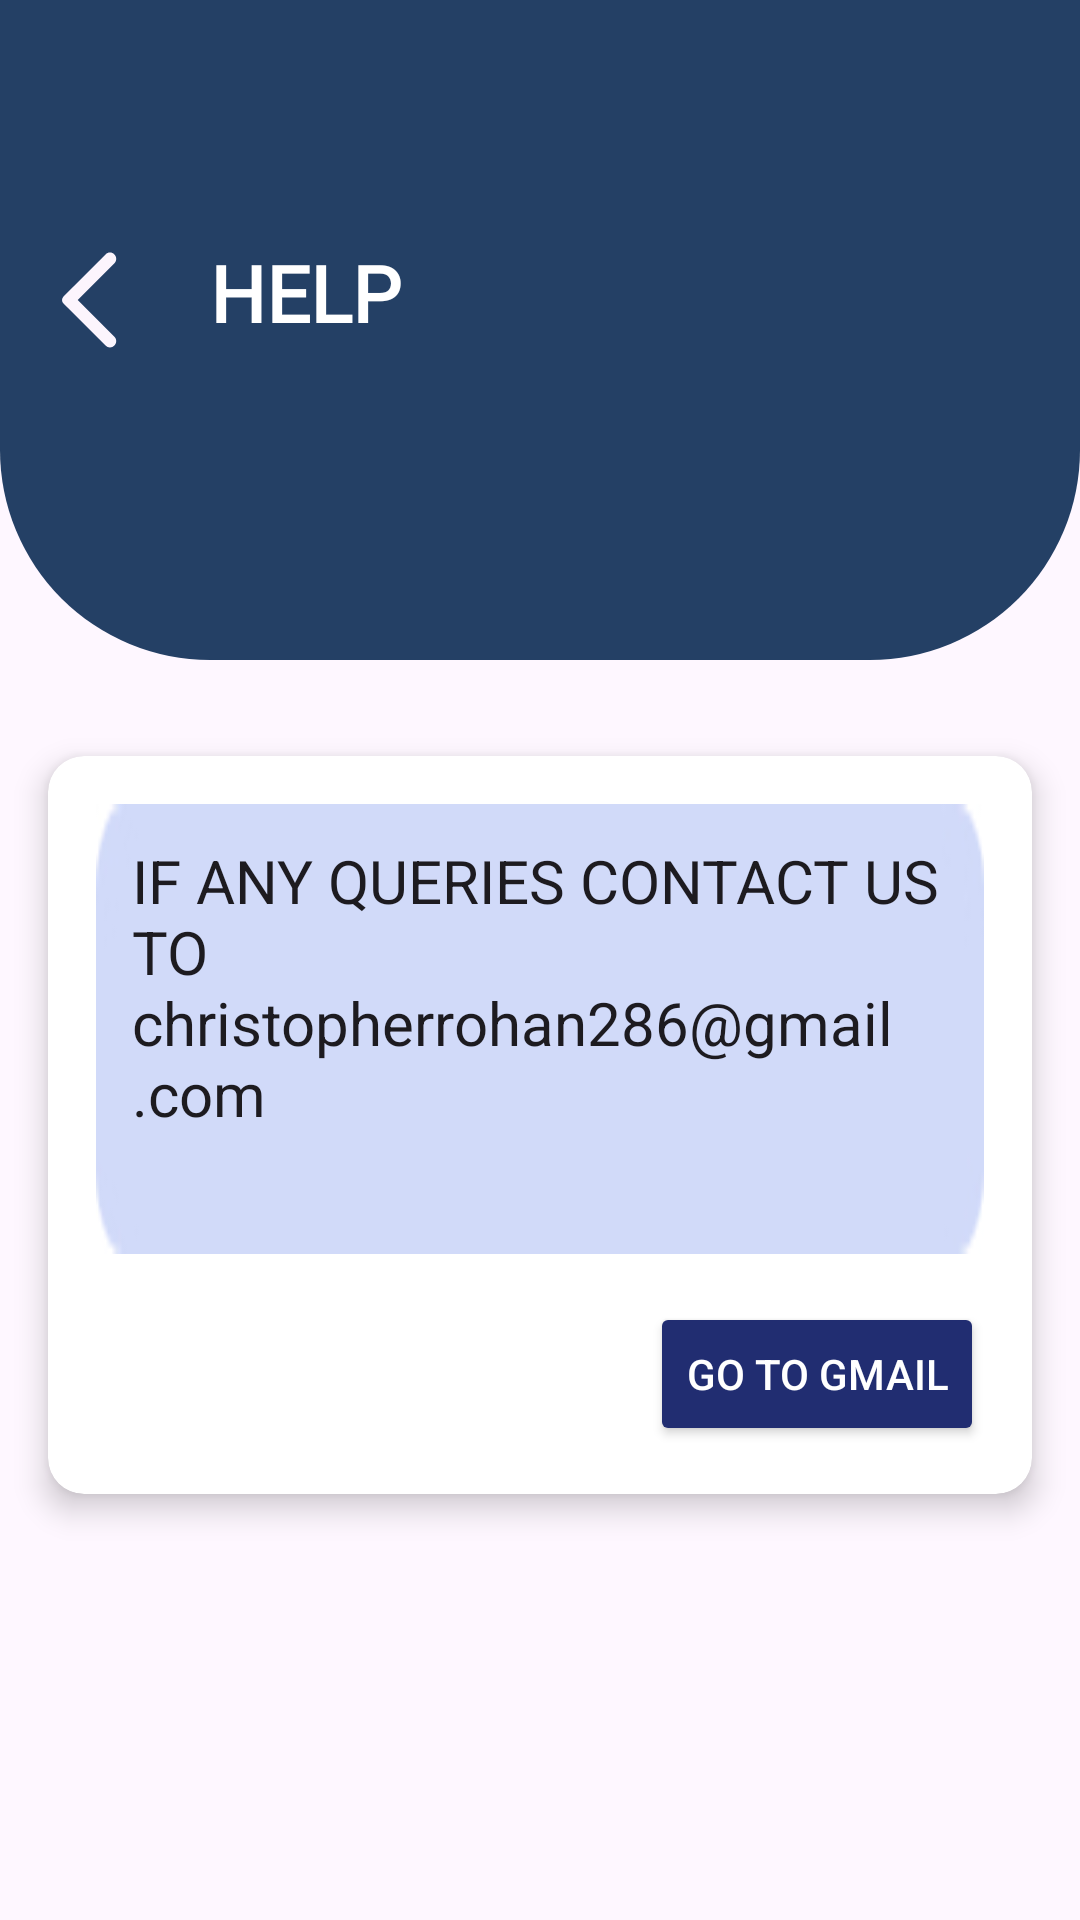

Point at icon controls on the screen. Image size 1080x1920, points as [x,y].
arrowback: [89,300]
